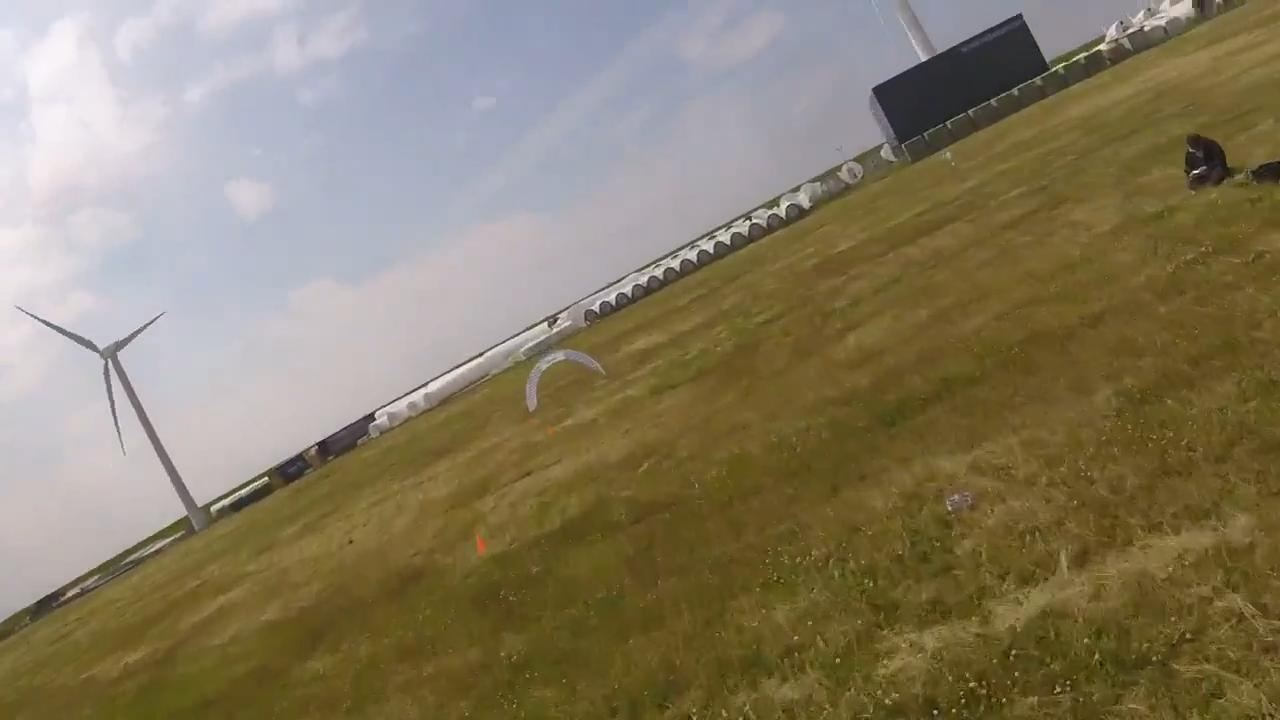gate: (522, 350, 605, 412)
